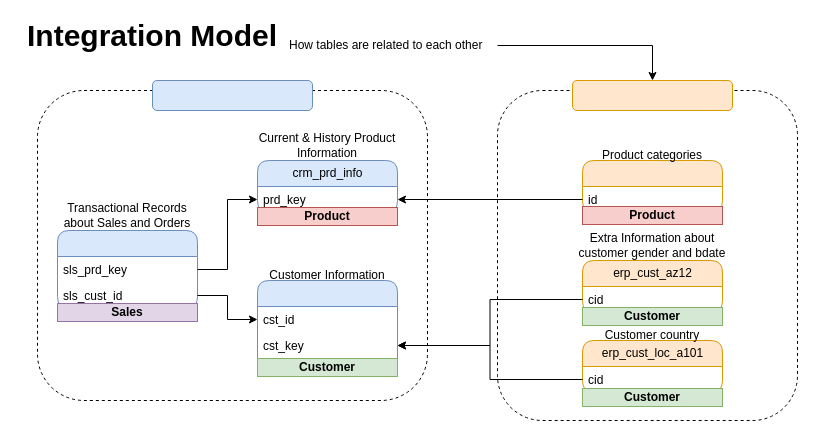
Some shapes in this 815 by 438 pixel diagram are drawn without their labels. Each missing label, with the box of its shape:
CRM: (152, 80, 312, 110)
crm_cust_info: (256, 280, 398, 376)
crm_sales_details: (56, 230, 198, 308)
ERP: (572, 80, 732, 110)
erp_px_cat_g1v2: (582, 160, 722, 212)
